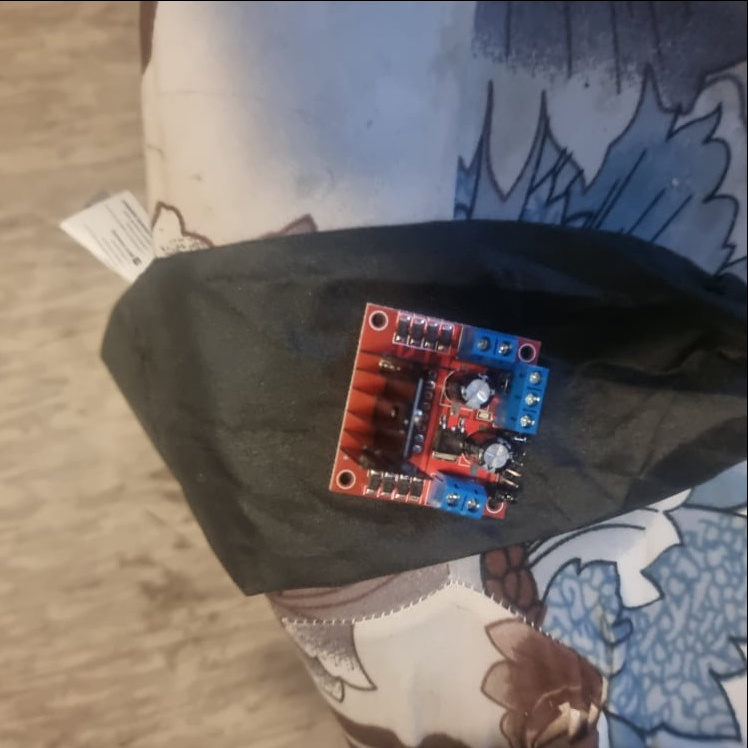MOTOR: (323, 295, 554, 523)
